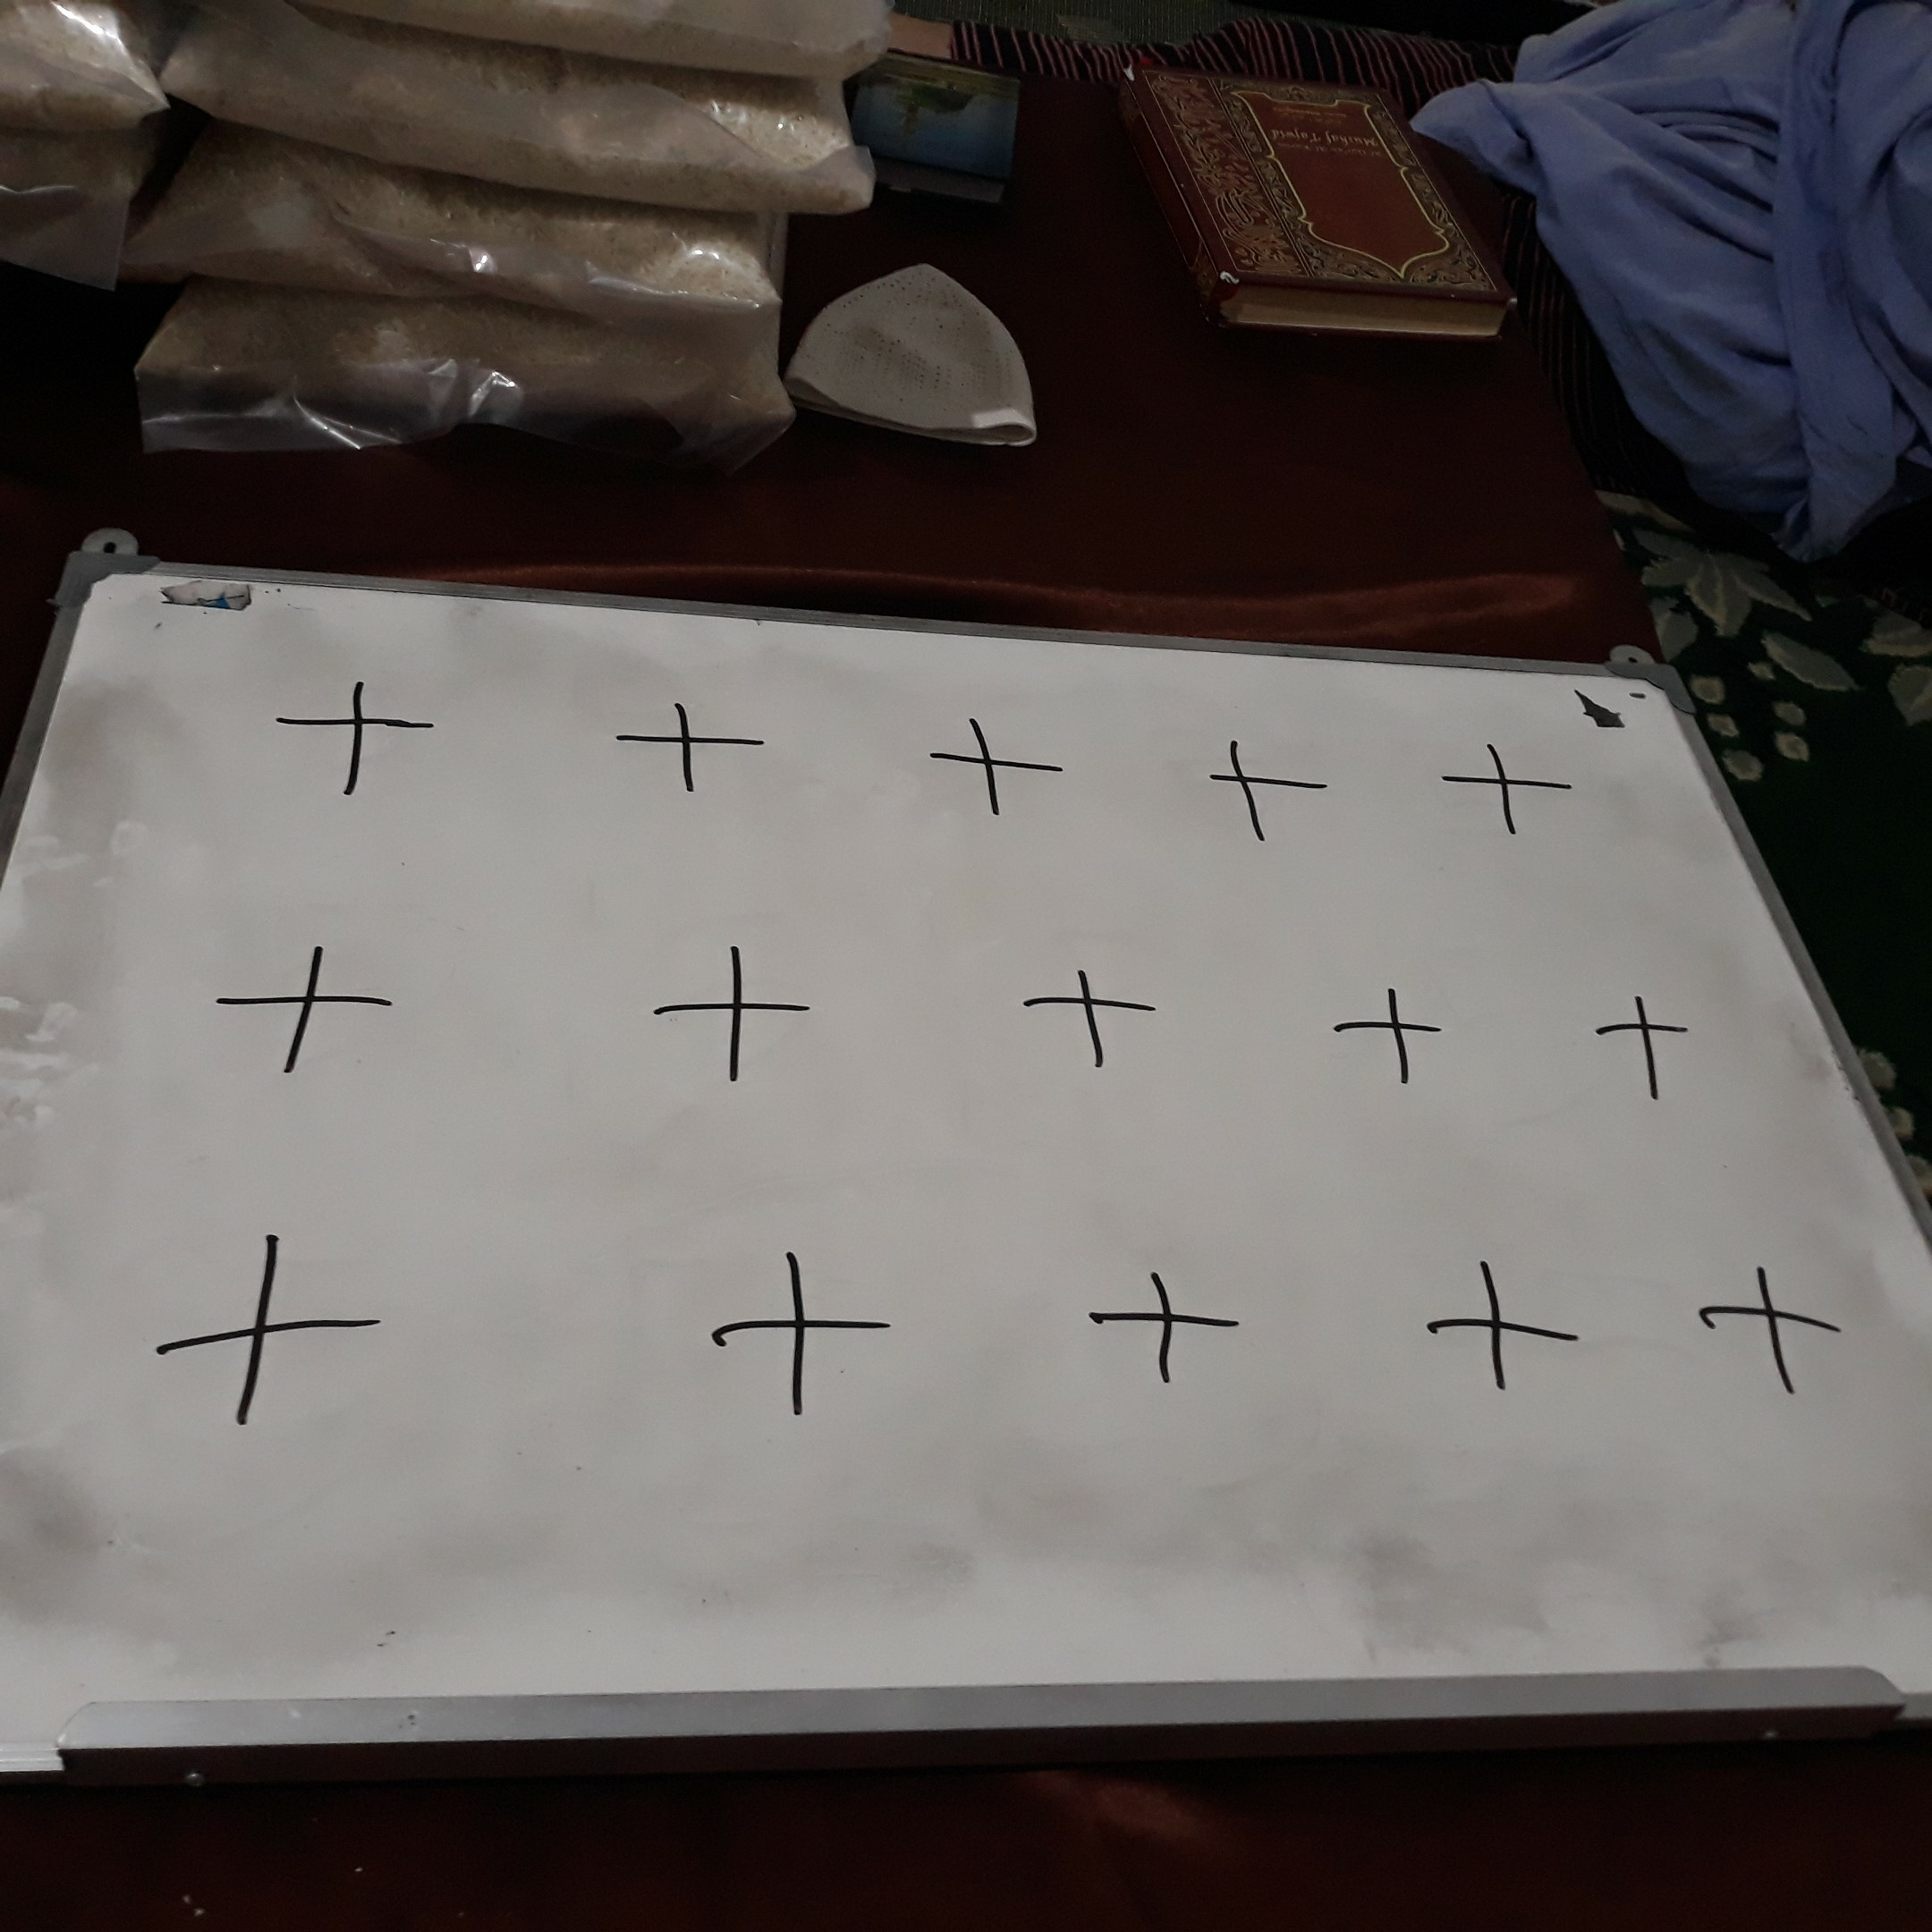sum: (138, 1222, 395, 1445), (693, 1229, 908, 1437), (248, 665, 468, 808), (640, 933, 826, 1098), (1406, 1243, 1588, 1410), (208, 933, 402, 1085), (1685, 1248, 1858, 1404), (1064, 1258, 1262, 1394), (907, 686, 1080, 837), (600, 674, 779, 811), (1004, 957, 1176, 1072), (1187, 718, 1340, 847), (1433, 720, 1586, 849), (1314, 976, 1465, 1097), (1579, 978, 1706, 1104)
